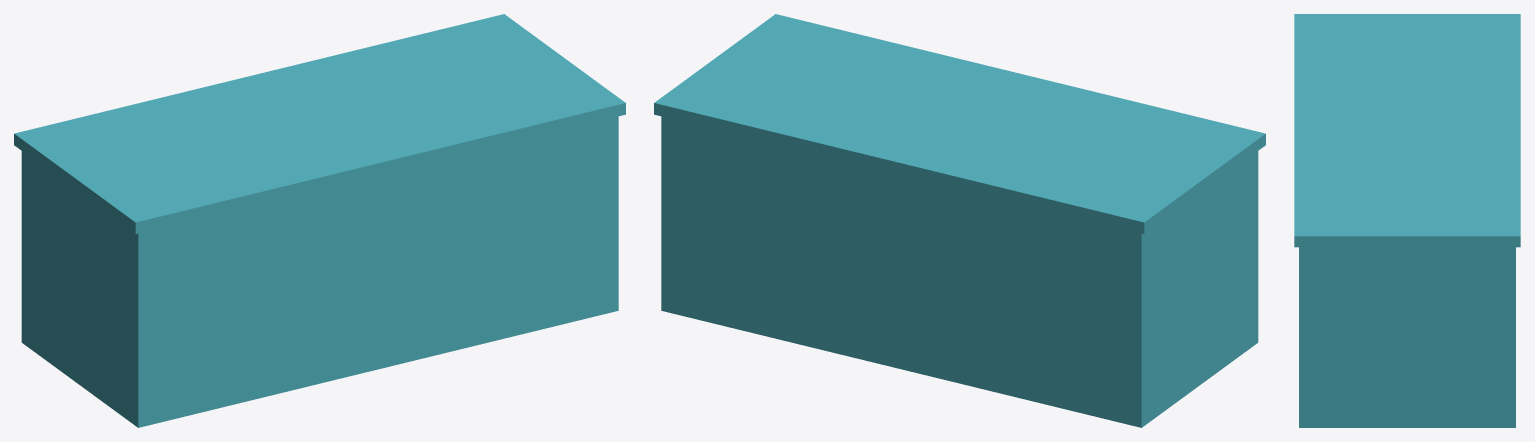
File: stół_mały.fbx
3 renders of one model, left to right at view 1: azimuth 30°, elevation 25°; view 2: azimuth 150°, elevation 25°; view 3: azimuth 270°, elevation 25°, orthographic. The views are drawn at different scales.
Parts seen in each view (by area): view 1: stół_mały; view 2: stół_mały; view 3: stół_mały.
Boxes of the visible parts, left/top/right/bottom form: stół_mały: left=14, top=14, right=625, bottom=427; stół_mały: left=654, top=14, right=1265, bottom=427; stół_mały: left=1294, top=14, right=1520, bottom=427.
Size of the model in its own units: 93.24 by 37.88 by 40.04.
